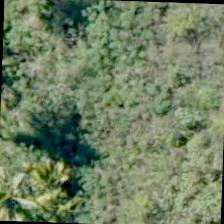Kelapa_Sawit: (0, 154, 65, 223)
